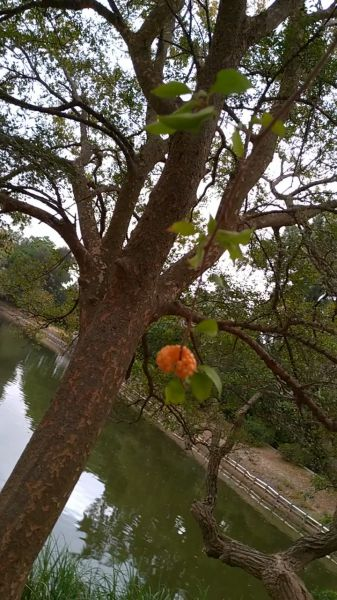eggs: (153, 338, 199, 384)
